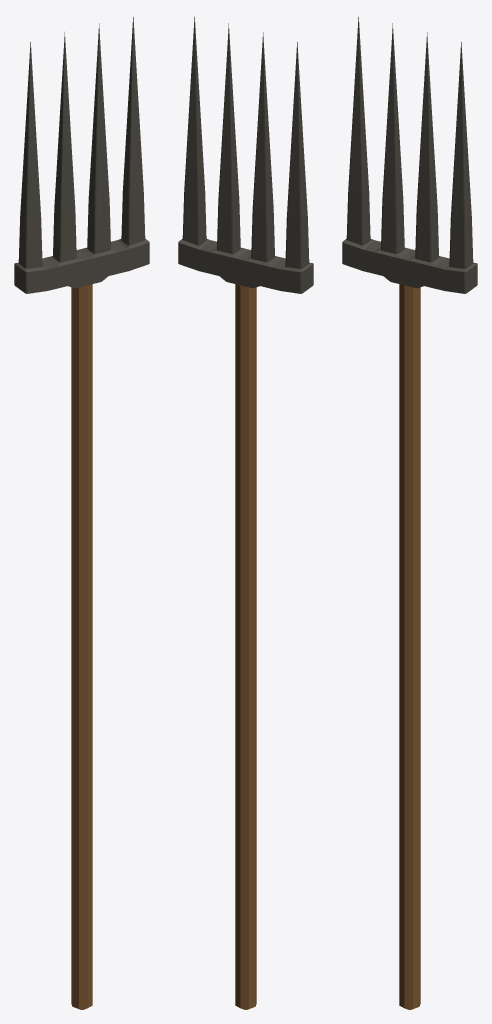
Rendered from Pitchfork.fbx.
3 views of the same model, side by side, from view 1: azimuth 30°, elevation 25°; view 2: azimuth 150°, elevation 25°; view 3: azimuth 330°, elevation 25° (orthographic).
Parts seen in each view (by area): view 1: Pitchfork; view 2: Pitchfork; view 3: Pitchfork.
Part boxes in pixels (x1,y1,x2,y2): Pitchfork: (14,17,149,1009); Pitchfork: (178,17,313,1009); Pitchfork: (342,17,477,1009).
Size of the model in its own units: 1.82 by 13.79 by 0.3184.
